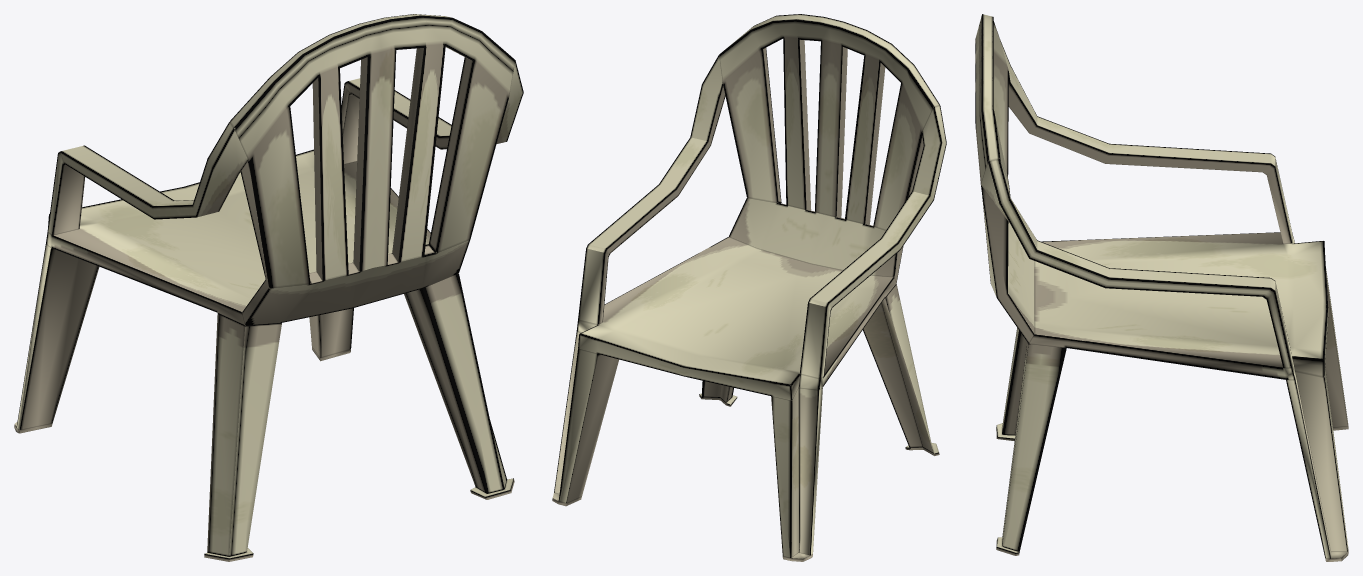
The model's file is Prop_SillaCuantica.fbx.
3 renders of one model, left to right at view 1: azimuth 30°, elevation 25°; view 2: azimuth 150°, elevation 25°; view 3: azimuth 270°, elevation 25°, orthographic. The views are drawn at different scales.
Visible parts, largest first — view 1: Prop_Silla_Plastico; view 2: Prop_Silla_Plastico; view 3: Prop_Silla_Plastico.
Part boxes in pixels (x1=…): Prop_Silla_Plastico: x1=14, y1=14, x2=523, y2=561; Prop_Silla_Plastico: x1=552, y1=14, x2=946, y2=561; Prop_Silla_Plastico: x1=975, y1=14, x2=1348, y2=561.
Bounding box in the file's own units: 0.854 × 1.26 × 0.9357.
